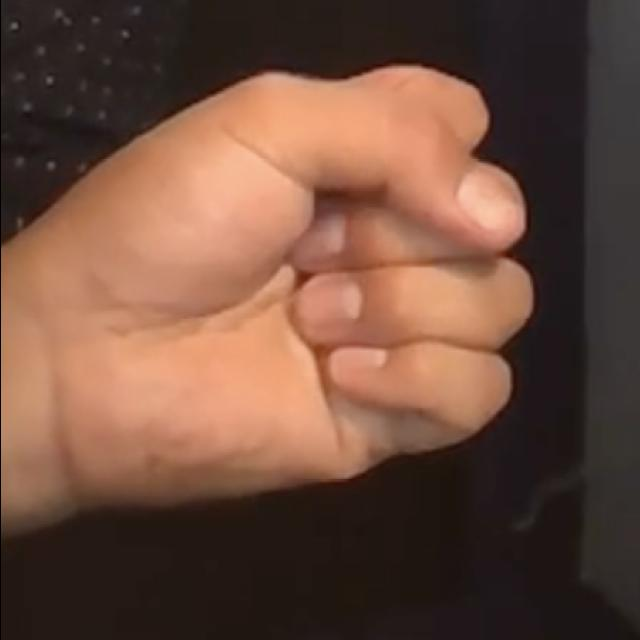S: (18, 62, 544, 520)
